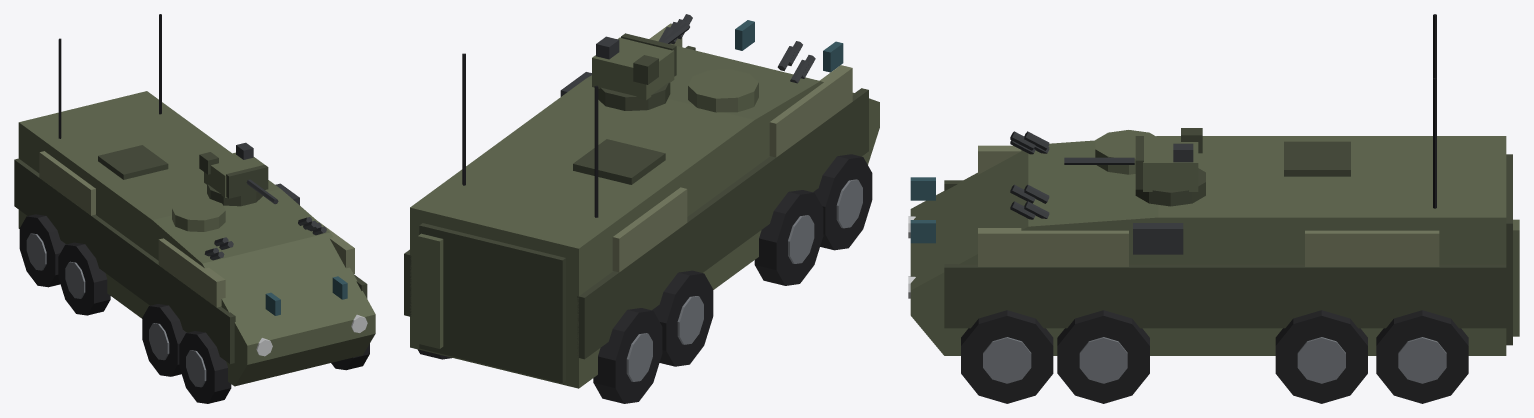
The model's file is Unit_Apc.obj.
3 views of the same model, side by side, from view 1: azimuth 30°, elevation 25°; view 2: azimuth 150°, elevation 25°; view 3: azimuth 270°, elevation 25° (orthographic). The views are drawn at different scales.
Bounding box in the file's own units: 2.84 × 4.05 × 7.29.
